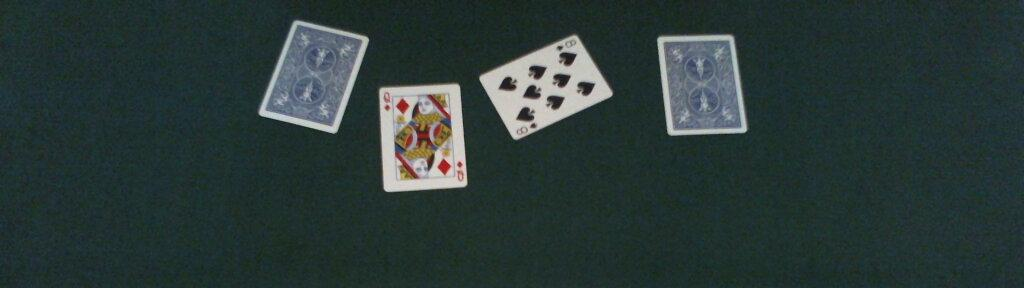back: (258, 21, 370, 134), (658, 34, 748, 136)
eight: (480, 34, 614, 140)
queen: (378, 83, 468, 191)
